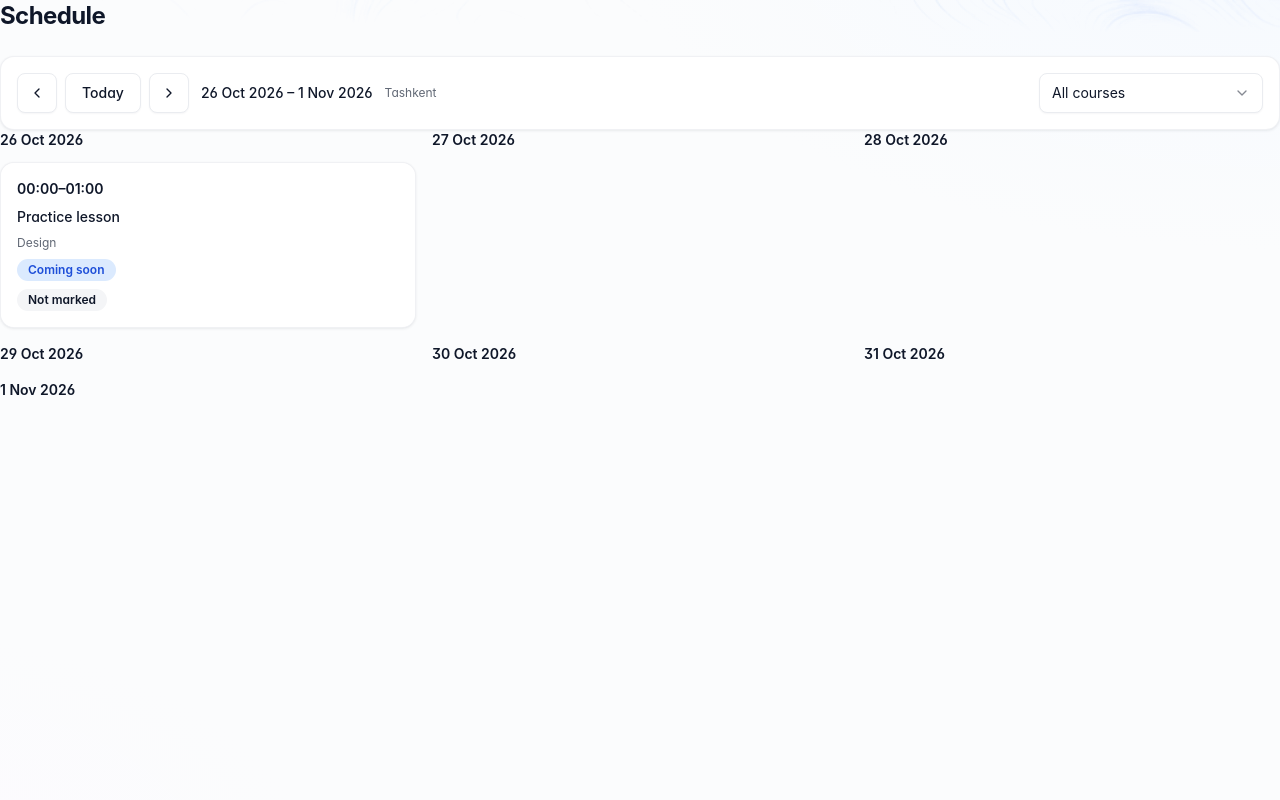
keeps parent lesson materials read only and assignment observation inside its Dialog
Click the button "00:00–01:00 Practice lesson Design Coming soon Not marked": [38, 188] box 1,163 -> 415,327
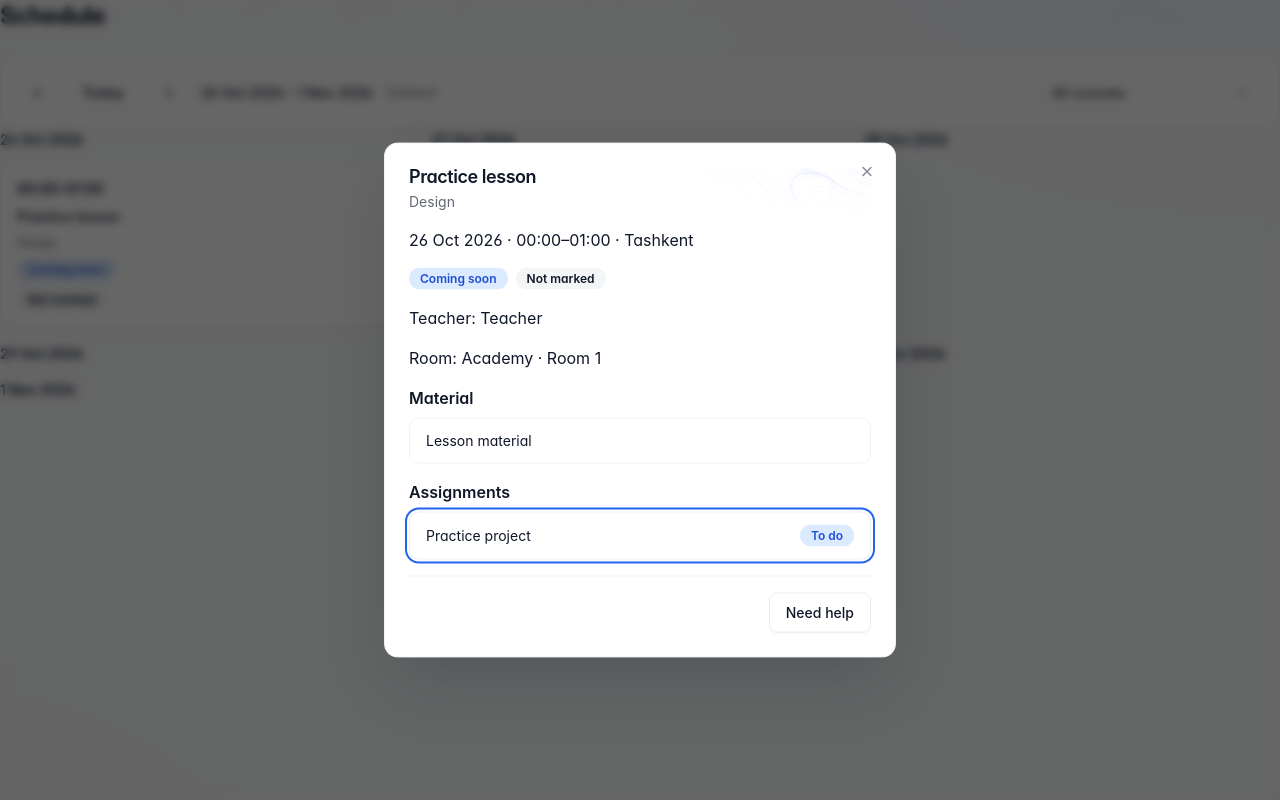
Now the text "Lesson material" is shown, box 409,418 -> 871,464
Click the button "Practice project To do": [478, 535] box 409,512 -> 871,560
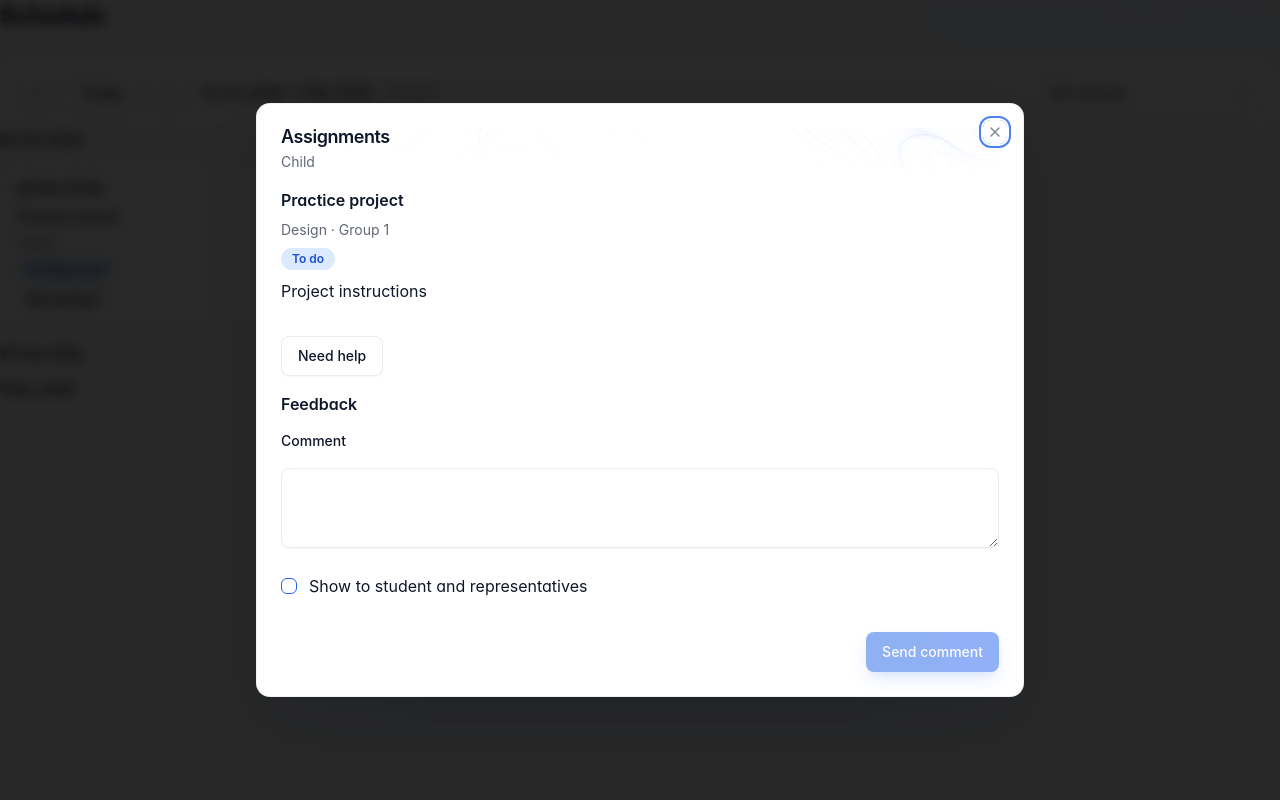
Now the dialog "Assignments" is shown, box 256,103 -> 1024,697
Now the text "Project instructions" is shown, box 281,281 -> 427,301
